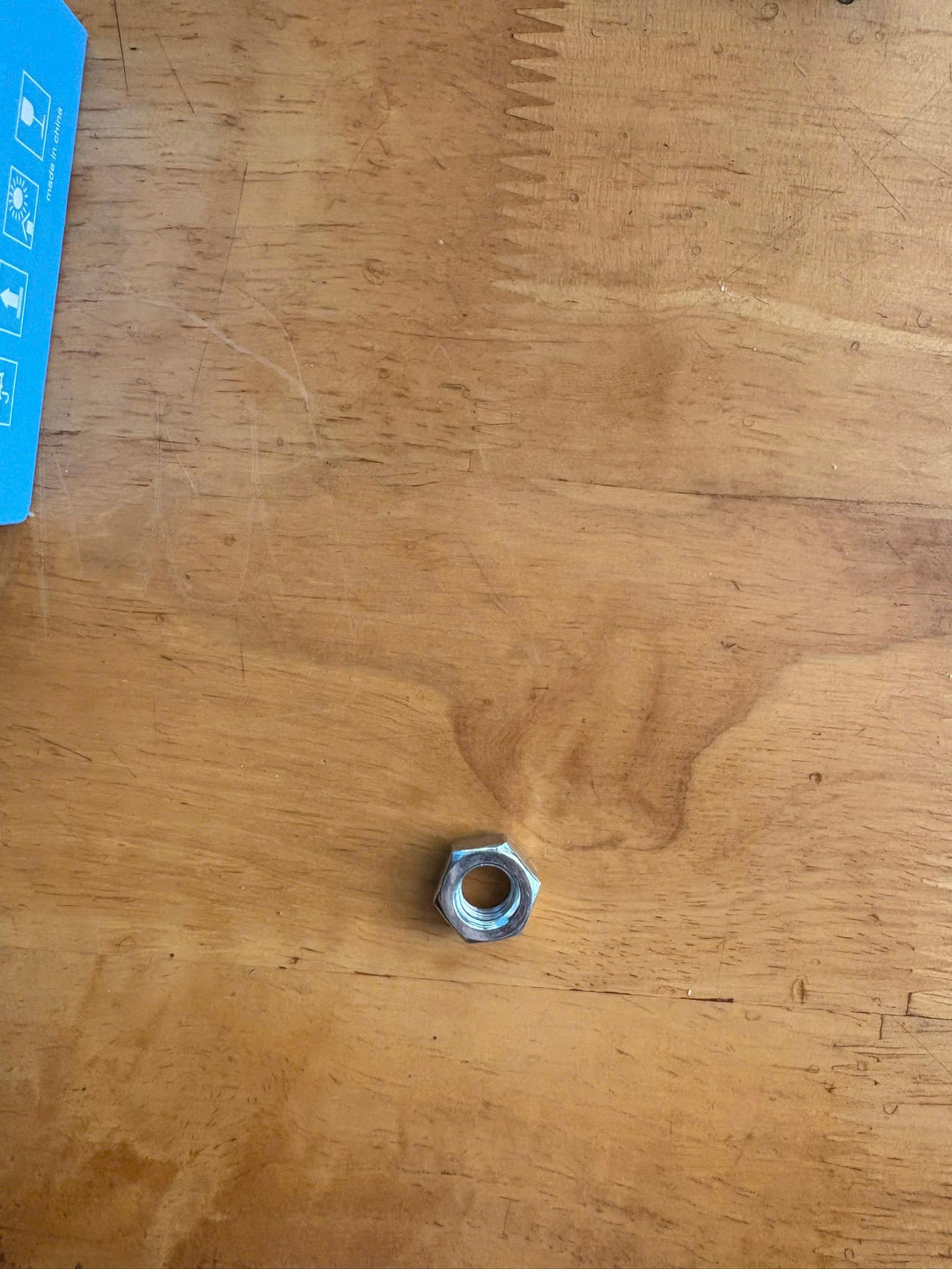nut: (407, 833, 561, 964)
